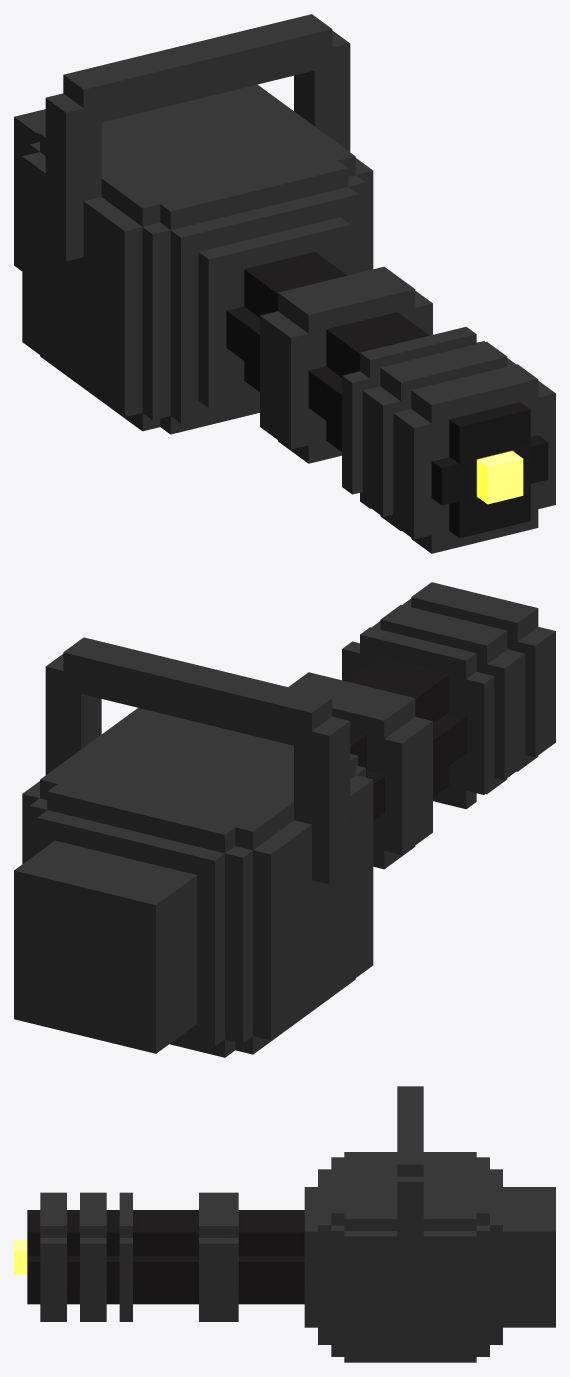
Rendered from photon_cannon_yellow.glb.
3 views of the same model, one above another, from view 1: azimuth 30°, elevation 25°; view 2: azimuth 150°, elevation 25°; view 3: azimuth 270°, elevation 25° (orthographic). The views are drawn at different scales.
Visible parts, largest first — view 1: machineGun.001; view 2: machineGun.001; view 3: machineGun.001.
Boxes of the visible parts, x1,y1,x2,y2 form: machineGun.001: (14, 14, 555, 553); machineGun.001: (14, 582, 555, 1057); machineGun.001: (14, 1086, 555, 1362).
Bounding box in the file's own units: 1.6 × 1.7 × 4.1.
Materials: 1 (1 with a texture image).
